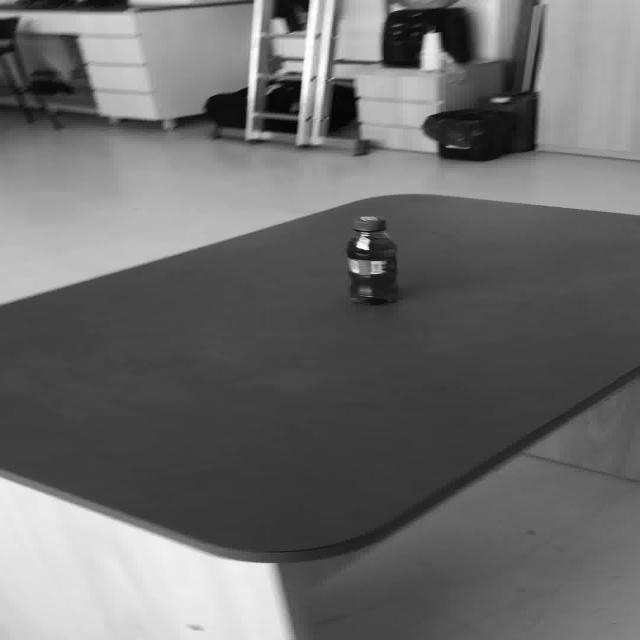guarana: (344, 214, 398, 304)
